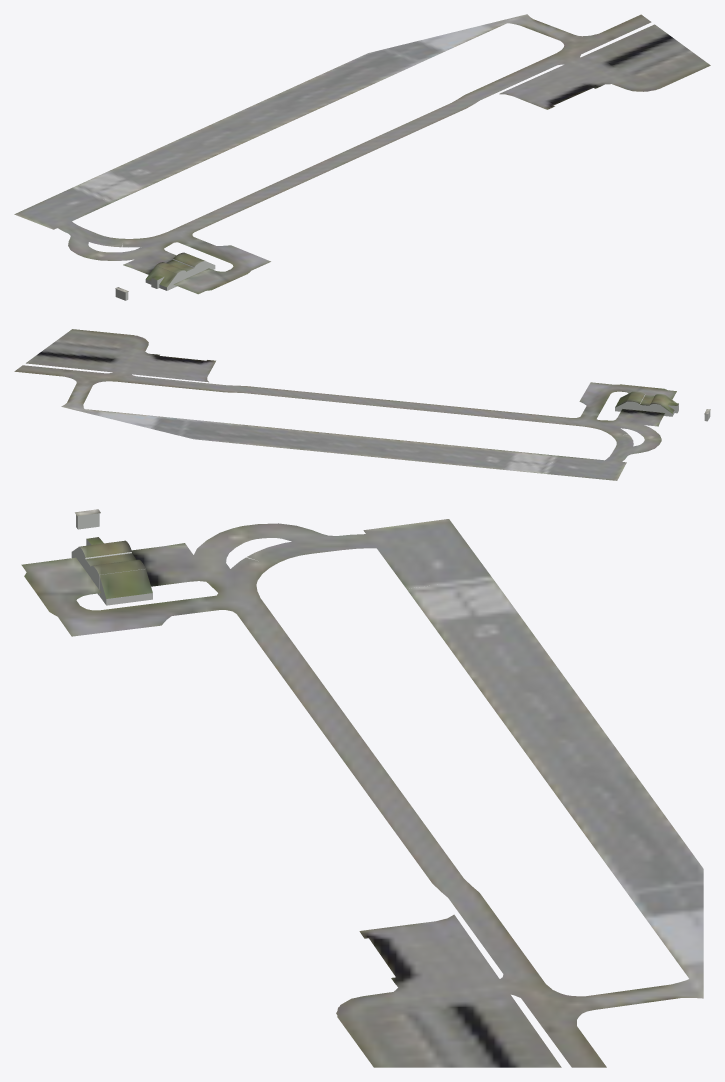
The model's file is LSGS_-2_-1.glb.
3 views of the same model, one above another, from view 1: azimuth 30°, elevation 25°; view 2: azimuth 150°, elevation 25°; view 3: azimuth 270°, elevation 25° (orthographic). The views are drawn at different scales.
Visible parts, largest first — view 1: pavement_LSGS_pavement_5181_2236, pavement_LSGS_pavement_5180_2236, building_aea359be60c0b4c2, building_9e1d76fa7168812c; view 2: pavement_LSGS_pavement_5181_2236, pavement_LSGS_pavement_5180_2236, building_aea359be60c0b4c2, building_9e1d76fa7168812c; view 3: pavement_LSGS_pavement_5181_2236, pavement_LSGS_pavement_5180_2236, building_aea359be60c0b4c2, building_9e1d76fa7168812c.
Boxes of the visible parts, x1,y1,x2,y2 form: pavement_LSGS_pavement_5181_2236: [89, 14, 710, 282]; pavement_LSGS_pavement_5180_2236: [14, 180, 228, 294]; building_aea359be60c0b4c2: [115, 252, 204, 292]; building_9e1d76fa7168812c: [115, 261, 215, 300]; pavement_LSGS_pavement_5181_2236: [14, 329, 643, 471]; pavement_LSGS_pavement_5180_2236: [527, 386, 676, 480]; building_aea359be60c0b4c2: [615, 391, 710, 414]; building_9e1d76fa7168812c: [615, 401, 710, 421]; pavement_LSGS_pavement_5181_2236: [36, 593, 703, 1067]; pavement_LSGS_pavement_5180_2236: [21, 519, 503, 593]; building_aea359be60c0b4c2: [75, 509, 152, 598]; building_9e1d76fa7168812c: [71, 513, 152, 605].
Bounding box in the file's own units: 582 × 11.93 × 303.
3 materials, 2 textured.
